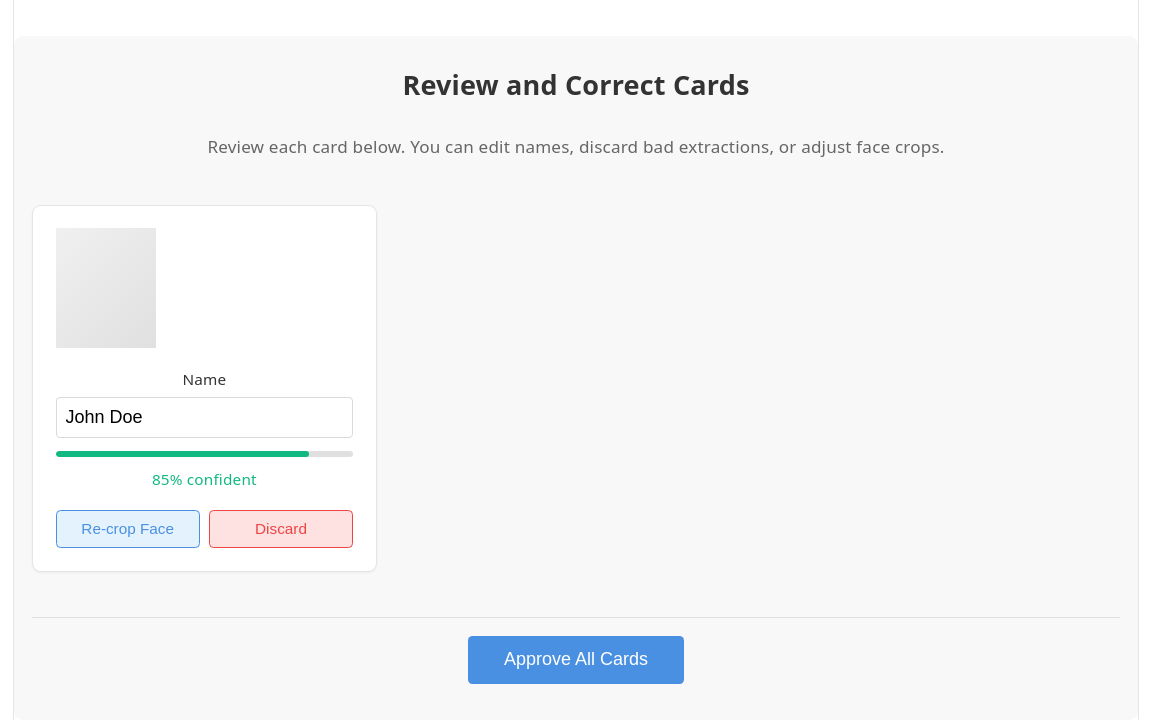
it: ExtractionReview › face crop editor › closes face crop editor when applying crop
The image size is (1152, 720).
Click the button "Re-crop Face" at (128, 529), box [56,510,200,548]
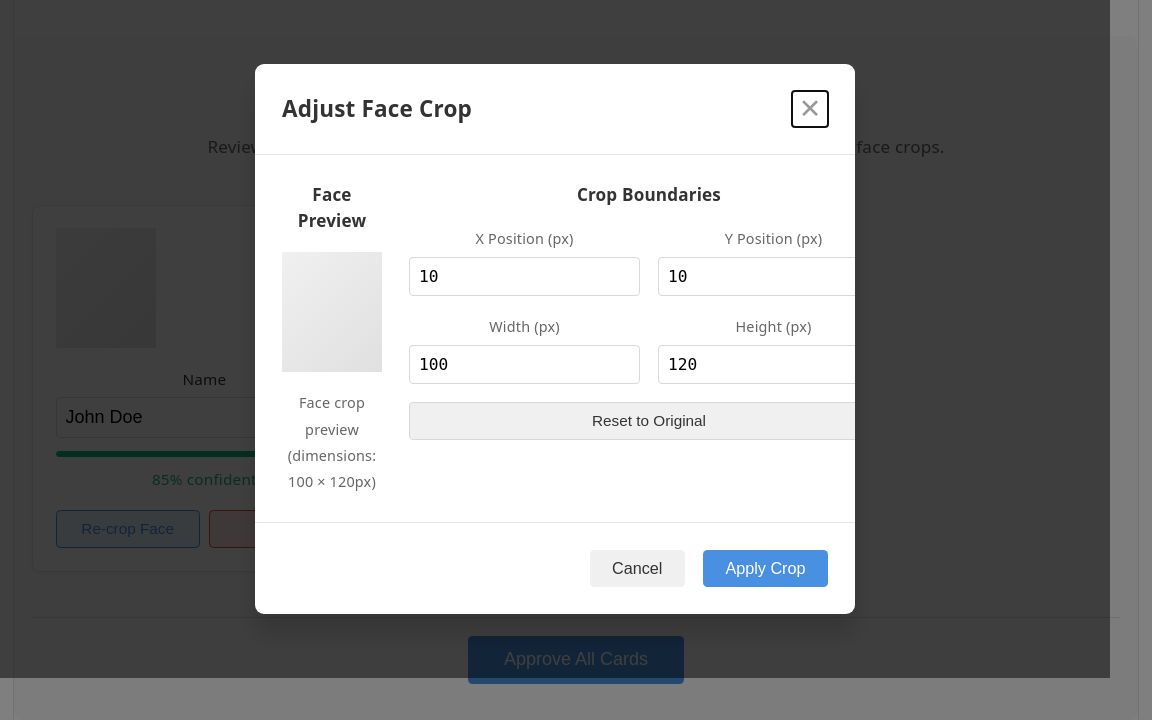
expect the dialog with class "face-crop-editor-dialog" is shown: met
Click the button with class "face-crop-editor-save" at (765, 568), box [703,550,828,587]
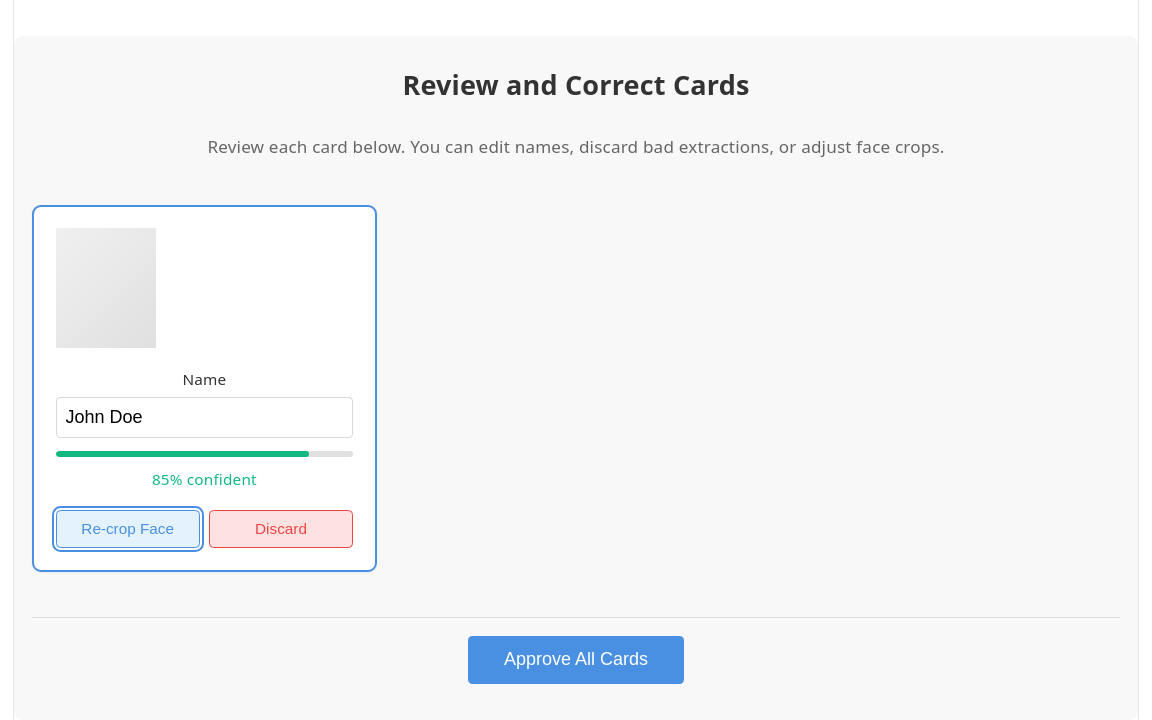
expect the dialog with class "face-crop-editor-dialog" is gone: met
